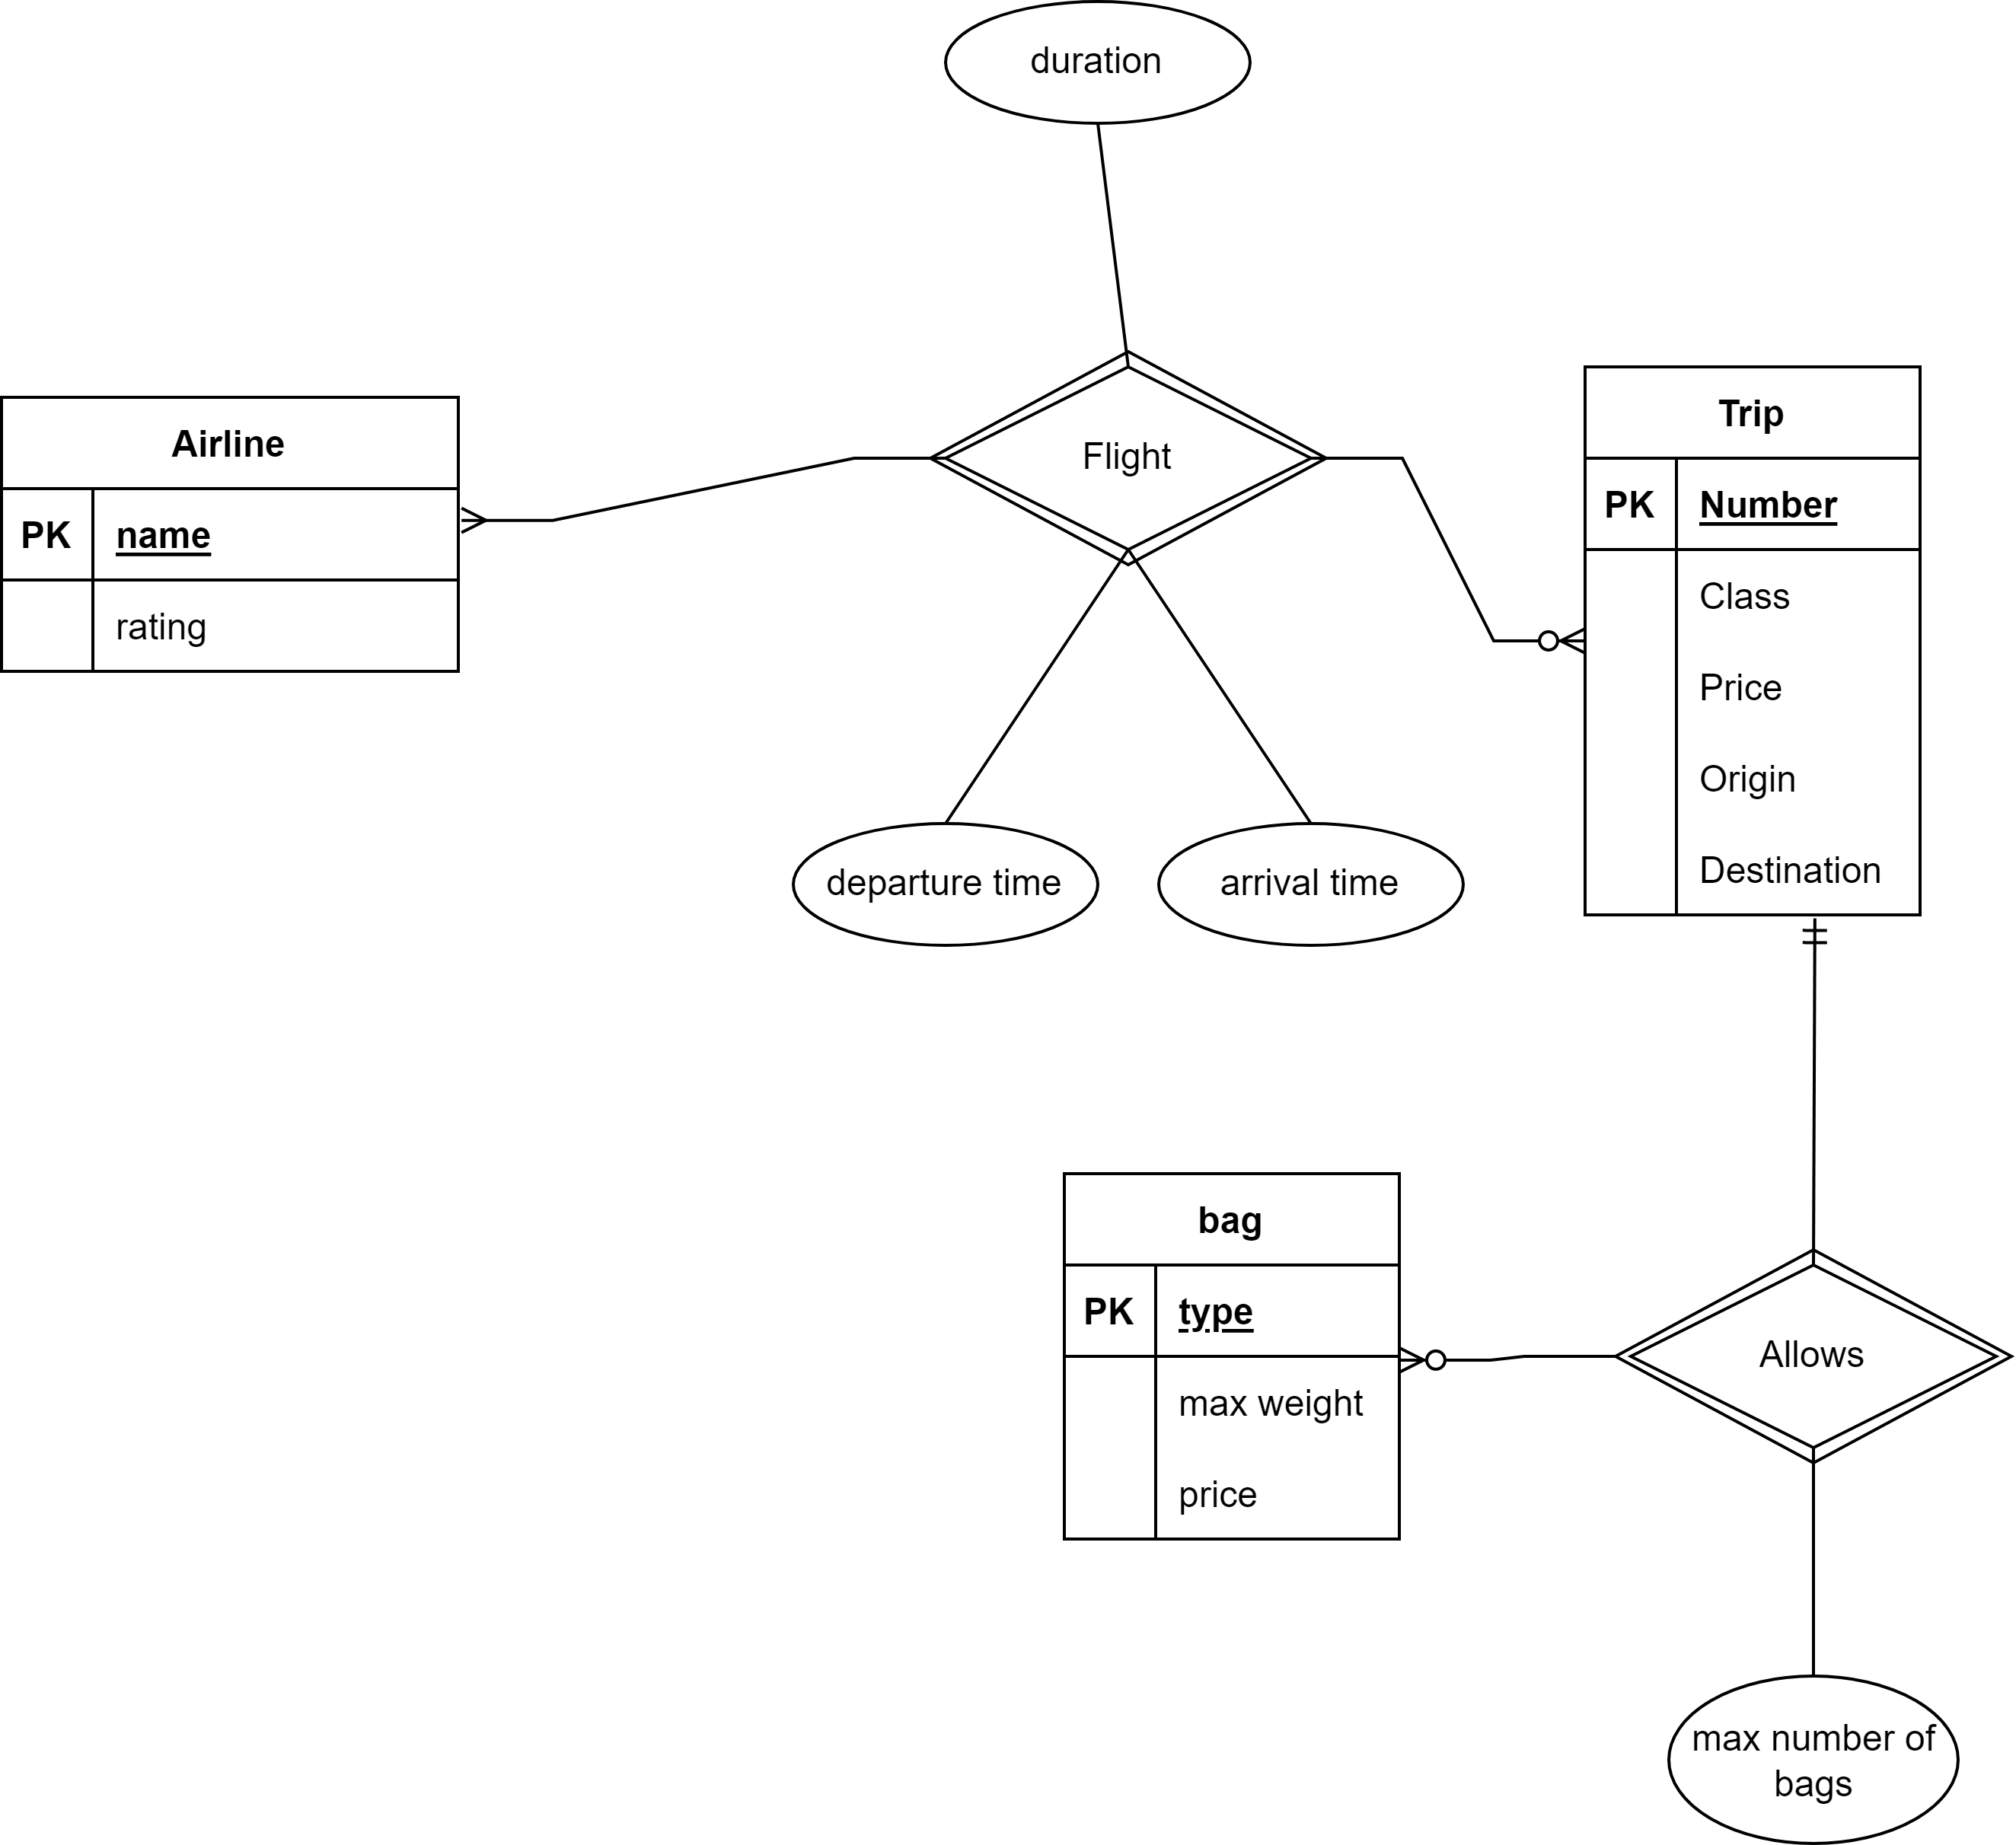entity: (1580, 365, 1925, 918), (1064, 1178, 1403, 1541), (5, 400, 453, 671)
ident_rel: (1621, 1246, 2016, 1462), (934, 360, 1322, 567)
many: (1494, 625, 1586, 671), (1398, 1341, 1500, 1382), (455, 506, 557, 544)
one: (1796, 918, 1832, 1043)
rel_attr: (1667, 1673, 1962, 1845), (945, 2, 1250, 123), (1157, 825, 1463, 944), (794, 822, 1094, 943)
